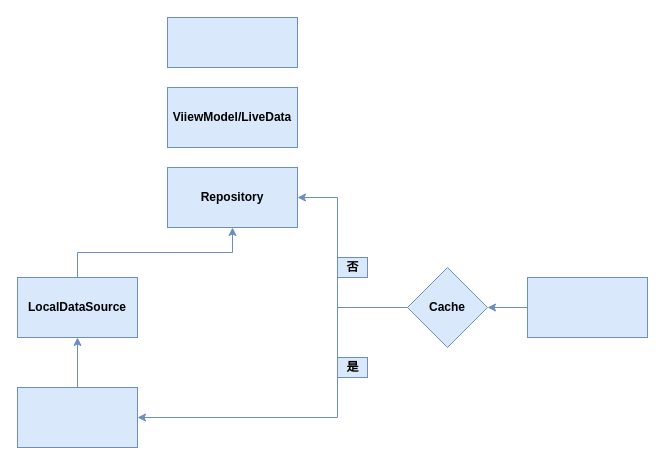
Image size: 665x465. Some labels were removed from this diagram. The shapes that lost their labels are listed below. From the top down, each one's centre as x and y in pixels, then its label:
point (232, 42): Activity/Fragment
point (587, 307): RemoteDataSource
point (77, 417): Room
